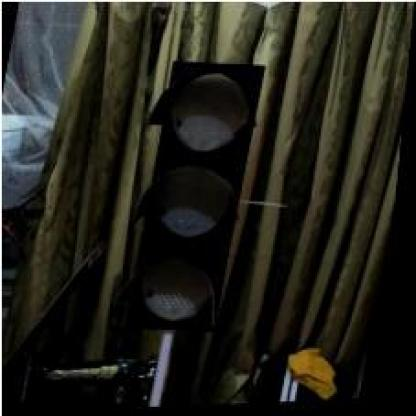yellow: (117, 58, 268, 334)
